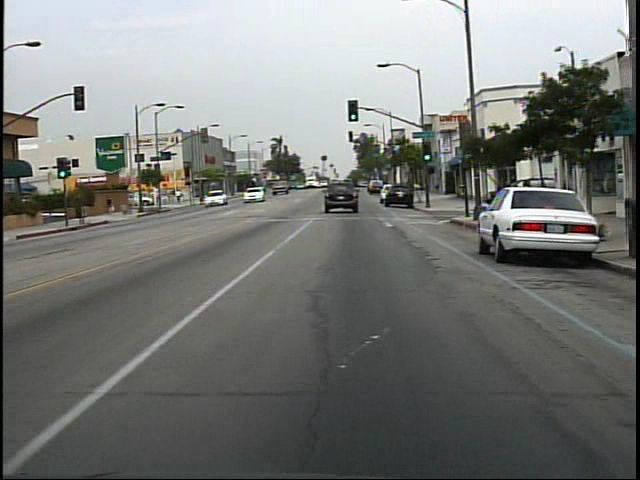person: (494, 174, 519, 228), (104, 191, 123, 220), (176, 187, 186, 206)
